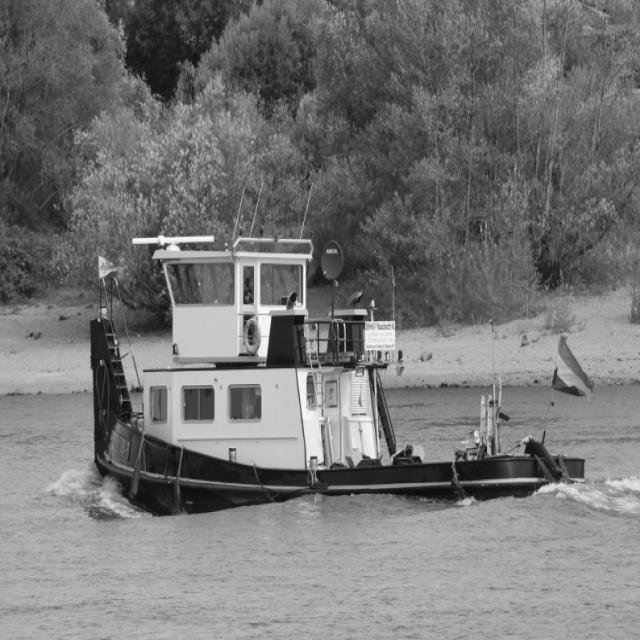tugboat: (86, 228, 600, 530)
